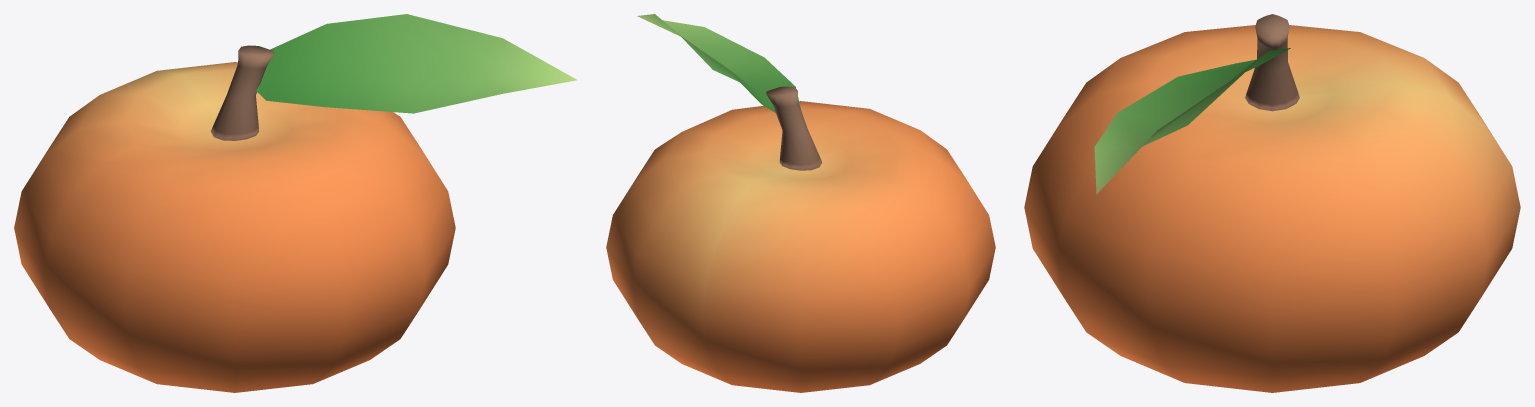
File: Orange_Mandarin.fbx
3 views of the same model, side by side, from view 1: azimuth 30°, elevation 25°; view 2: azimuth 150°, elevation 25°; view 3: azimuth 270°, elevation 25° (orthographic). The views are drawn at different scales.
Visible parts, largest first — view 1: Orange_Mandarin; view 2: Orange_Mandarin; view 3: Orange_Mandarin.
Part boxes in pixels (x1,y1,x2,y2): Orange_Mandarin: [14, 14, 577, 392]; Orange_Mandarin: [606, 14, 995, 392]; Orange_Mandarin: [1024, 14, 1520, 392].
Size of the model in its own units: 28.1 by 18.18 by 23.58.
Materials: 1 (1 with a texture image).
